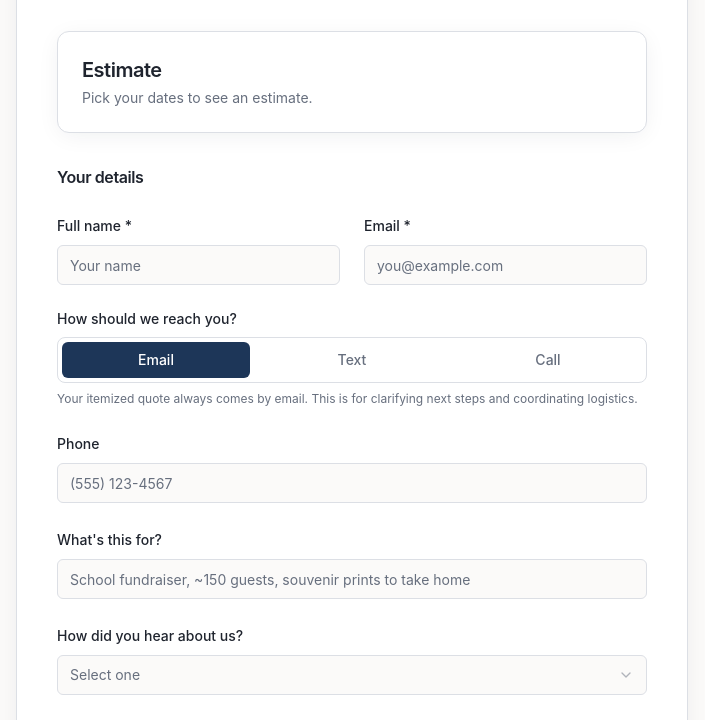
Test: RequestForm › switches the phone label with the contact preference
(page scrolled)
Check: the field labelled "Phone" is shown, box 57,463 -> 647,503
Click the radio button labelled "Text" at coordinates (352, 360), box 258,342 -> 446,378
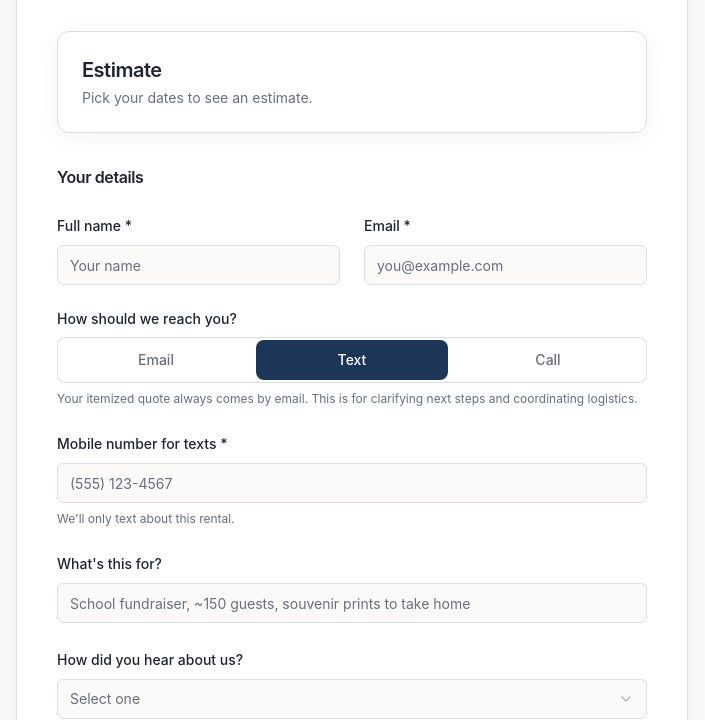
Click the radio button labelled "Call" at coordinates (548, 360), box 454,342 -> 642,378
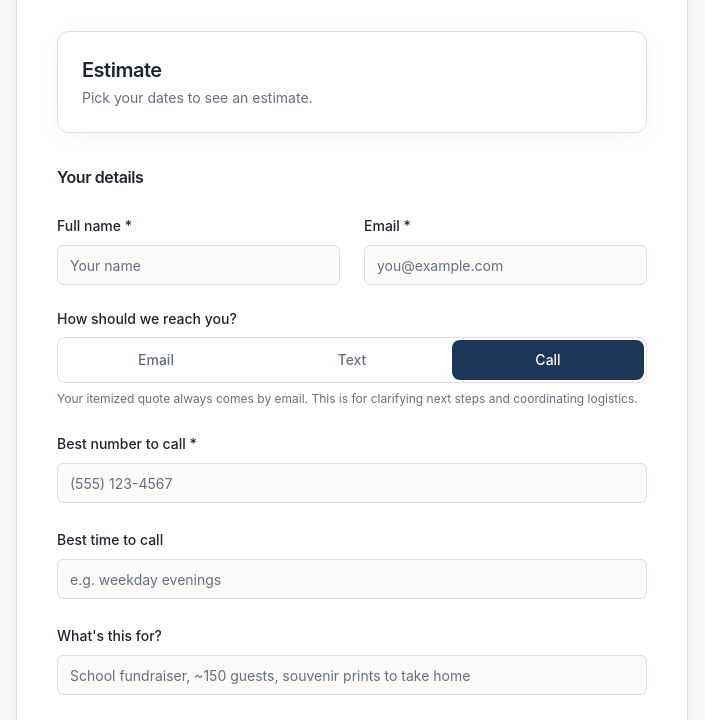
Check: the field labelled "Best time to call" is shown, box 57,559 -> 647,599
